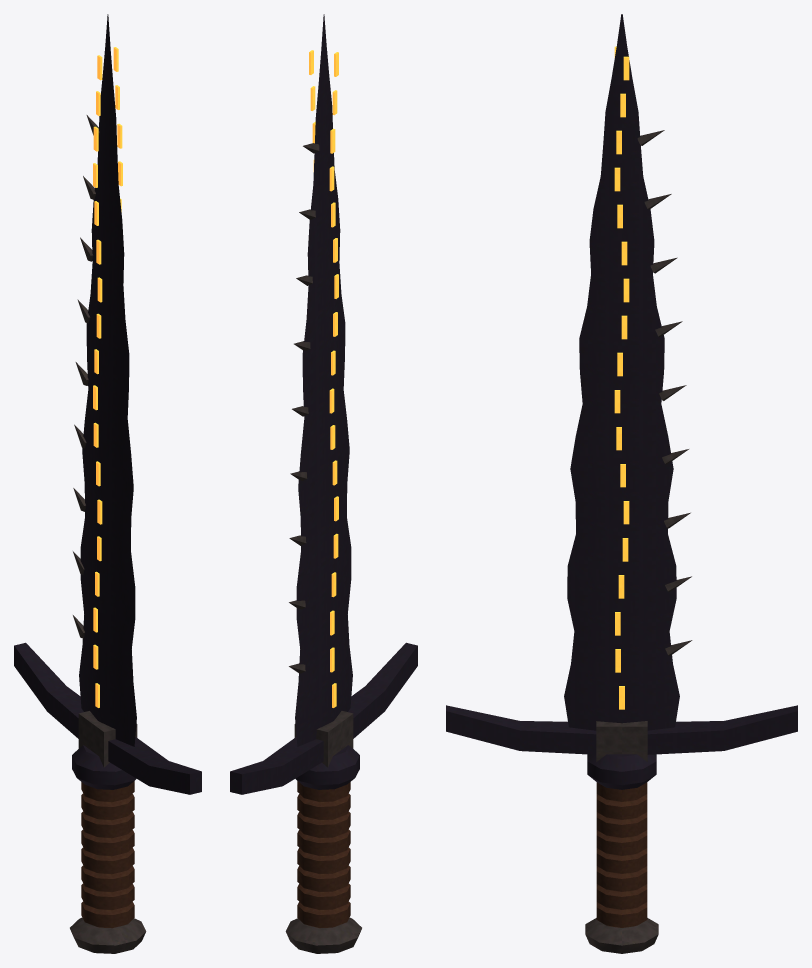
Rendered from ashentitan_magma_greatsword.glb.
3 views of the same model, side by side, from view 1: azimuth 30°, elevation 25°; view 2: azimuth 150°, elevation 25°; view 3: azimuth 270°, elevation 25° (orthographic).
Visible parts, largest first — view 1: ashentitan_magma_greatsword; view 2: ashentitan_magma_greatsword; view 3: ashentitan_magma_greatsword.
Part boxes in pixels (x1,y1,x2,y2): ashentitan_magma_greatsword: (14,14,201,953); ashentitan_magma_greatsword: (230,14,417,953); ashentitan_magma_greatsword: (446,14,797,953).
Size of the model in its own units: 0.68 by 9.1 by 3.1.
Materials: 4 (4 with a texture image).
